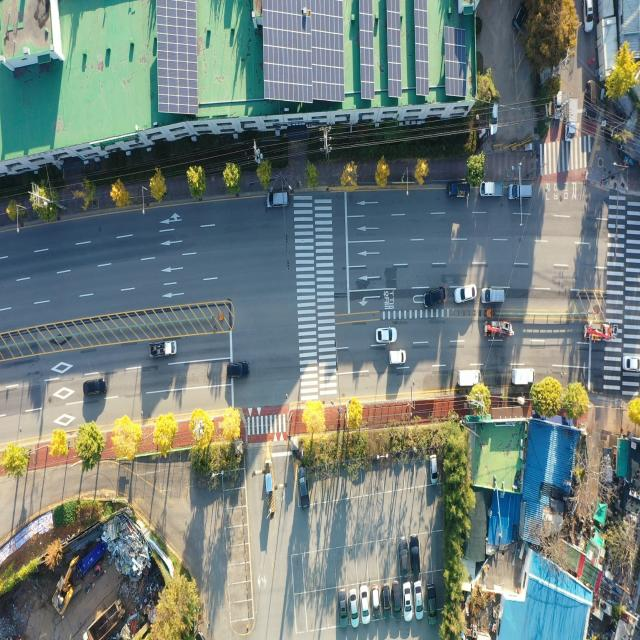car: (508, 182, 533, 201), (268, 190, 291, 208), (482, 288, 507, 304), (298, 466, 308, 504), (398, 539, 408, 577), (424, 288, 445, 306), (228, 361, 250, 378), (86, 379, 108, 396), (415, 583, 424, 621), (382, 584, 392, 618), (412, 540, 421, 577), (340, 588, 349, 625), (515, 5, 527, 32), (583, 0, 592, 36), (456, 286, 476, 302), (490, 100, 499, 135), (392, 583, 401, 618), (361, 586, 369, 624), (428, 583, 436, 620), (404, 584, 412, 621), (350, 589, 358, 625), (378, 330, 397, 344), (623, 356, 640, 371), (389, 350, 405, 364), (556, 96, 564, 124), (371, 584, 378, 614), (430, 455, 437, 484)
small_truck: (583, 322, 619, 344), (456, 364, 484, 388), (584, 76, 598, 120), (484, 318, 513, 339), (565, 97, 578, 141), (150, 341, 178, 359), (511, 368, 535, 387), (481, 182, 505, 200), (448, 182, 470, 198)
